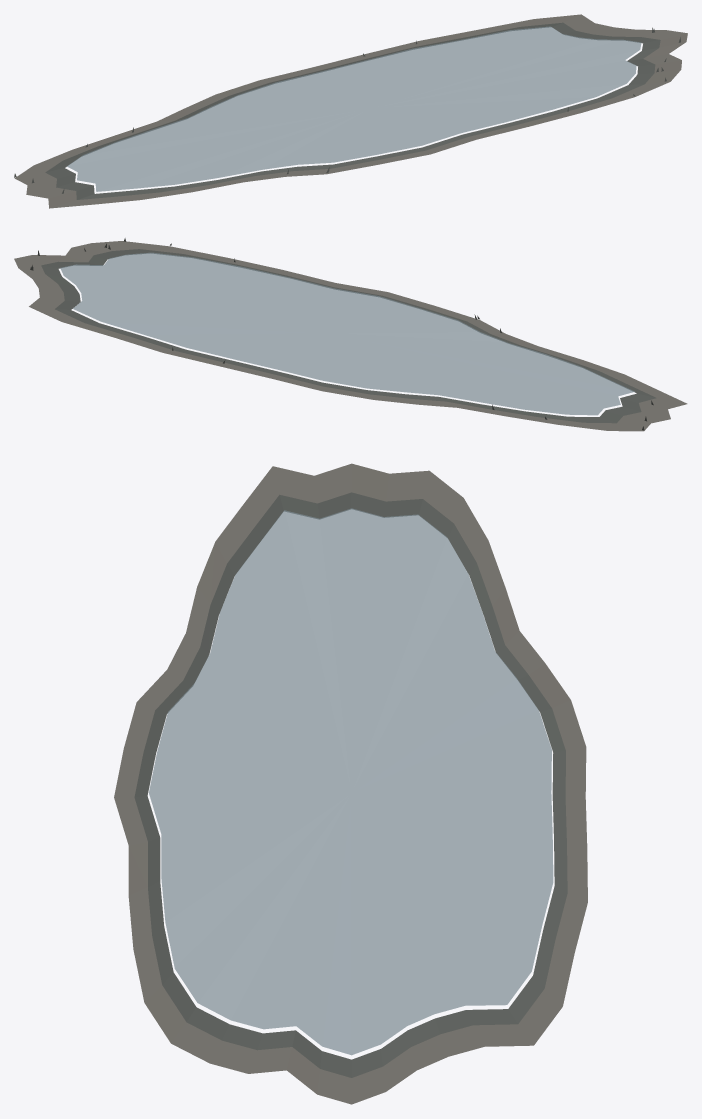
Rendered from r6b2i-kaluza-przykraweznikowa-700.glb.
3 renders of one model, top to bottom at view 1: azimuth 30°, elevation 25°; view 2: azimuth 150°, elevation 25°; view 3: azimuth 270°, elevation 25°, orthographic. The views are drawn at different scales.
Visible parts, largest first — view 1: PrawkoWater.actual-surface, Sediment feathered to surrounding stone, Wetted meniscus rim; view 2: PrawkoWater.actual-surface, Sediment feathered to surrounding stone, Wetted meniscus rim; view 3: PrawkoWater.actual-surface, Sediment feathered to surrounding stone, Wetted meniscus rim.
Boxes of the visible parts, left/top/right/bottom form: PrawkoWater.actual-surface: left=67, top=26, right=641, bottom=191; Sediment feathered to surrounding stone: left=14, top=14, right=687, bottom=208; Wetted meniscus rim: left=45, top=22, right=660, bottom=199; PrawkoWater.actual-surface: left=60, top=252, right=634, bottom=415; Sediment feathered to surrounding stone: left=14, top=241, right=687, bottom=431; Wetted meniscus rim: left=41, top=249, right=656, bottom=423; PrawkoWater.actual-surface: left=149, top=508, right=553, bottom=1055; Sediment feathered to surrounding stone: left=114, top=463, right=587, bottom=1104; Wetted meniscus rim: left=134, top=492, right=567, bottom=1077.
Bounding box in the file's own units: 7.03 × 0.0729 × 2.2.
